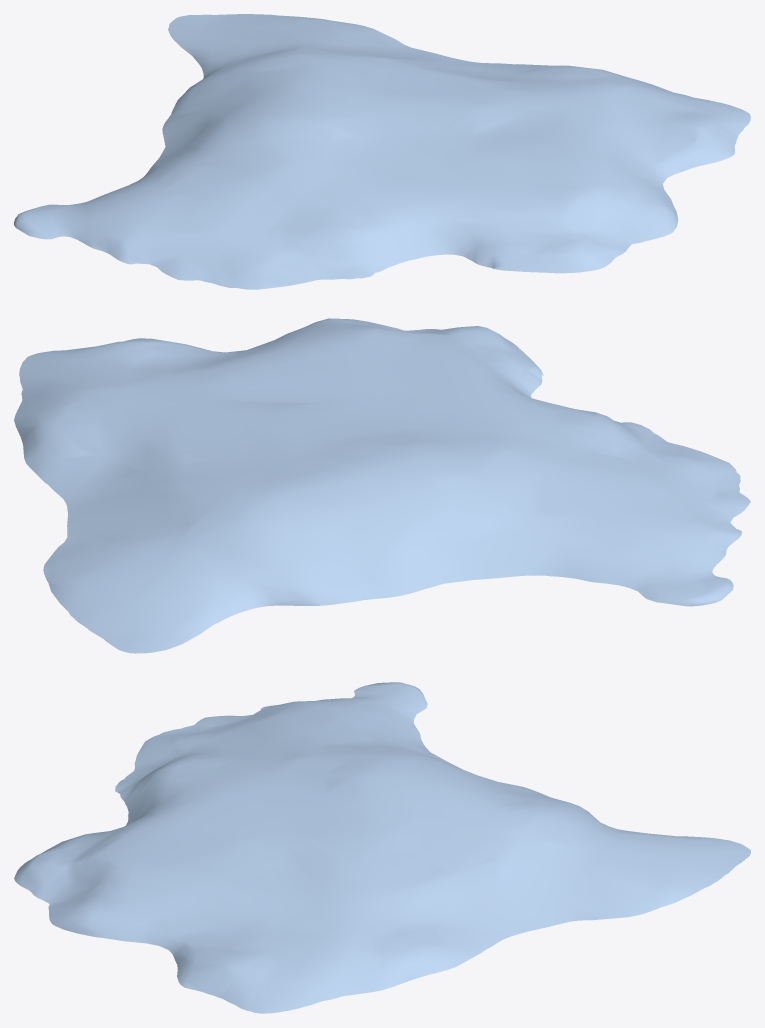
The model's file is IcePatchLarge_02.fbx.
3 renders of one model, top to bottom at view 1: azimuth 30°, elevation 25°; view 2: azimuth 150°, elevation 25°; view 3: azimuth 270°, elevation 25°, orthographic. The views are drawn at different scales.
Parts seen in each view (by area): view 1: IcePatchLarge_02.001; view 2: IcePatchLarge_02.001; view 3: IcePatchLarge_02.001.
Part boxes in pixels (x1,y1,x2,y2): IcePatchLarge_02.001: (14,14,750,289); IcePatchLarge_02.001: (14,318,750,653); IcePatchLarge_02.001: (14,682,750,1013).
Size of the model in its own units: 4.77 by 0.3439 by 4.5.
